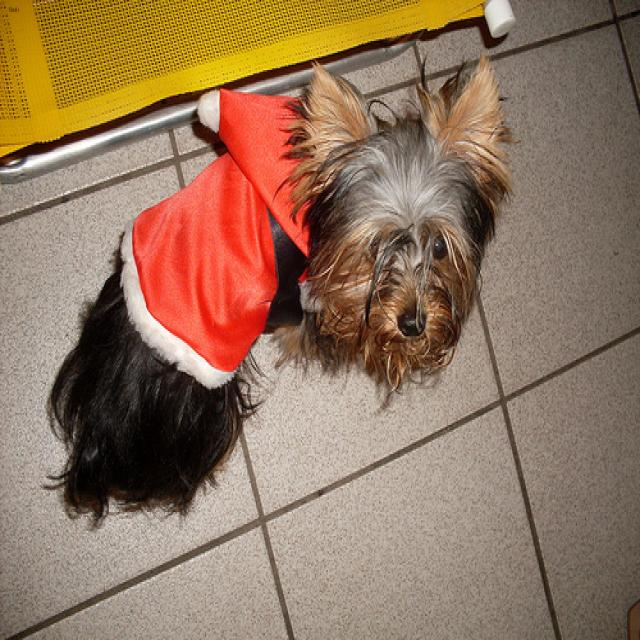dog-yorkshire_terrier: (261, 34, 518, 396)
